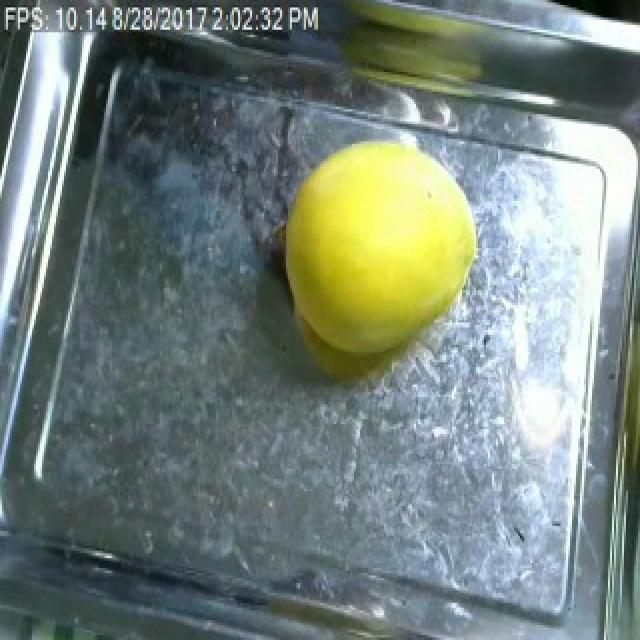fruit: (256, 109, 508, 380), (322, 0, 506, 122)
